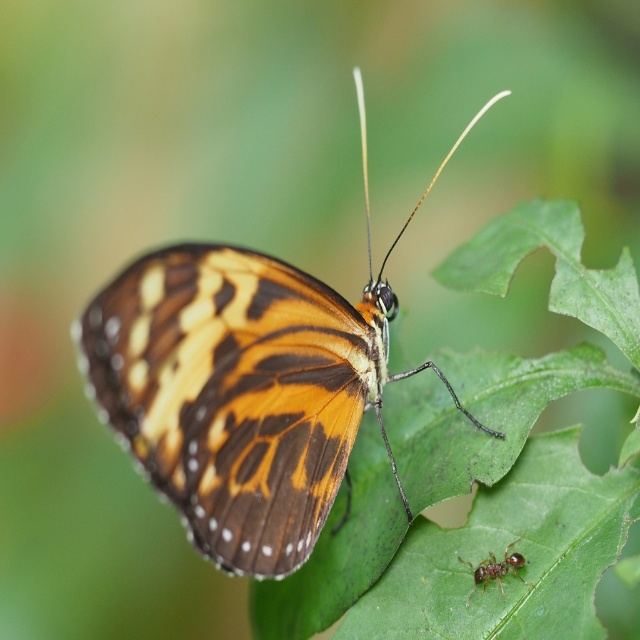Butterfly: (71, 65, 513, 580)
